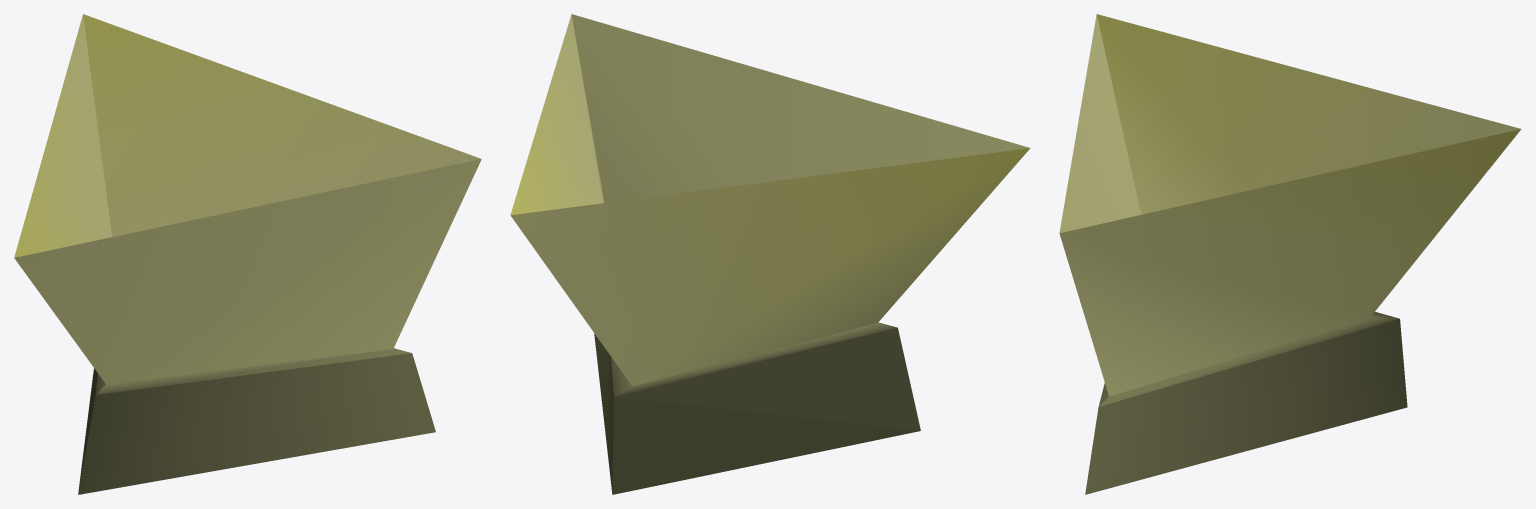
File: c_house_body_triangle_ab.fbx
3 renders of one model, left to right at view 1: azimuth 30°, elevation 25°; view 2: azimuth 150°, elevation 25°; view 3: azimuth 270°, elevation 25°, orthographic. The views are drawn at different scales.
Visible parts, largest first — view 1: c_house_body_triangle_ab; view 2: c_house_body_triangle_ab; view 3: c_house_body_triangle_ab.
Boxes of the visible parts, left/top/right/bottom form: c_house_body_triangle_ab: left=14, top=14, right=481, bottom=494; c_house_body_triangle_ab: left=510, top=14, right=1030, bottom=494; c_house_body_triangle_ab: left=1059, top=14, right=1521, bottom=494.
Size of the model in its own units: 7.55 by 4.72 by 6.64.
